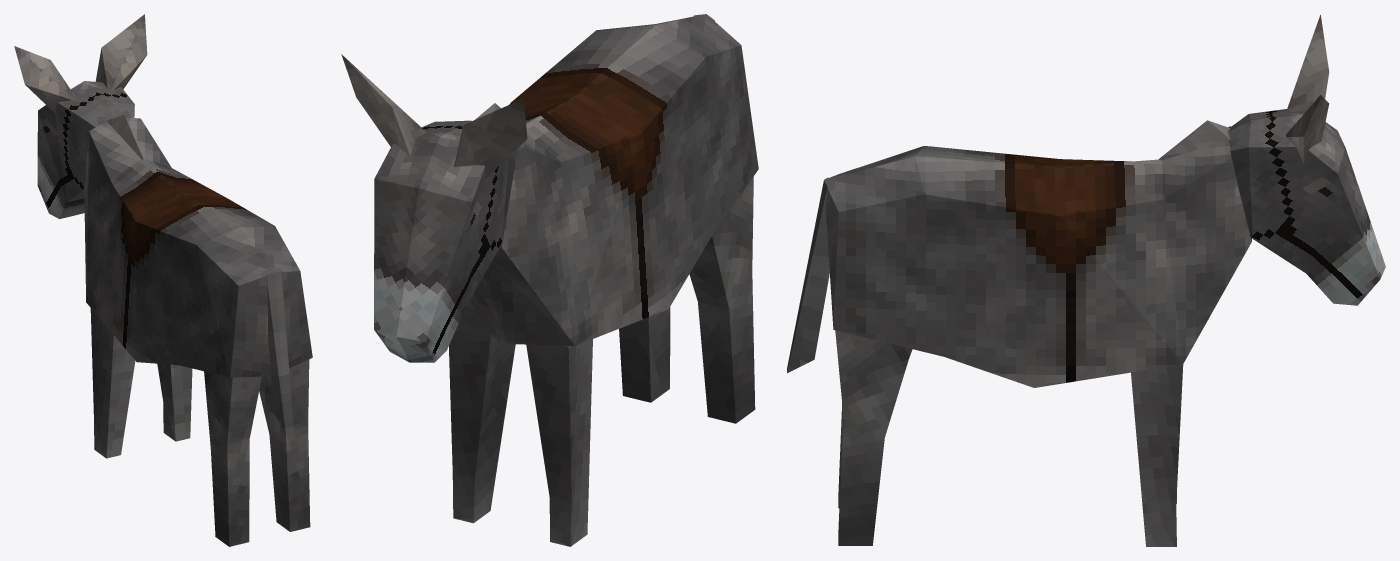
The model's file is Donkey_Donkey_Saddled.glb.
The picture shows the model from 3 angles, left to right: view 1: azimuth 30°, elevation 25°; view 2: azimuth 150°, elevation 25°; view 3: azimuth 270°, elevation 25°; orthographic projection. The views are drawn at different scales.
Visible parts, largest first — view 1: Body, Head, Leg3, Leg4, Leg1, Leg2; view 2: Body, Head, Leg3, Leg1, Leg2, Leg4; view 3: Body, Head, Leg4, Leg2.
Boxes of the visible parts, left/top/right/bottom form: Body: left=84, top=114, right=312, bottom=434; Head: left=14, top=14, right=147, bottom=218; Leg3: left=204, top=371, right=261, bottom=546; Leg4: left=259, top=359, right=310, bottom=531; Leg1: left=90, top=308, right=135, bottom=458; Leg2: left=157, top=363, right=192, bottom=441; Body: left=459, top=14, right=758, bottom=345; Head: left=341, top=54, right=527, bottom=362; Leg3: left=689, top=176, right=755, bottom=423; Leg1: left=526, top=339, right=592, bottom=546; Leg2: left=449, top=321, right=515, bottom=523; Leg4: left=619, top=307, right=670, bottom=402; Body: left=787, top=120, right=1251, bottom=387; Head: left=1228, top=15, right=1385, bottom=305; Leg4: left=835, top=330, right=912, bottom=545; Leg2: left=1131, top=364, right=1183, bottom=546.
Bounding box in the file's own units: 0.6117 × 1.65 × 1.91.
Materials: 1 (1 with a texture image).
